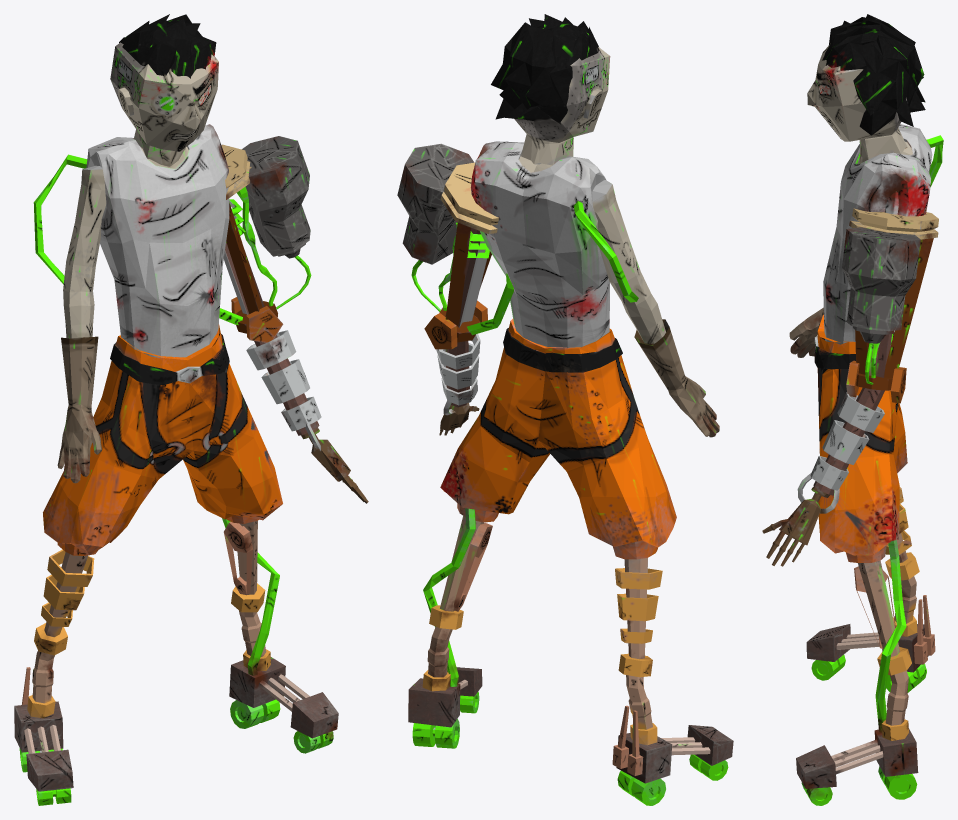
The model's file is CyborgFINALAnimation_000000.obj.
The picture shows the model from 3 angles, left to right: view 1: azimuth 30°, elevation 25°; view 2: azimuth 150°, elevation 25°; view 3: azimuth 270°, elevation 25°; orthographic projection. The views are drawn at different scales.
Visible parts, largest first — view 1: CyborgMesh_Cube.002; view 2: CyborgMesh_Cube.002; view 3: CyborgMesh_Cube.002.
Part boxes in pixels (x1=…): CyborgMesh_Cube.002: x1=14, y1=14, x2=368, y2=805; CyborgMesh_Cube.002: x1=397, y1=14, x2=733, y2=805; CyborgMesh_Cube.002: x1=762, y1=14, x2=943, y2=805.
Bounding box in the file's own units: 4.2 × 9.64 × 2.19.
